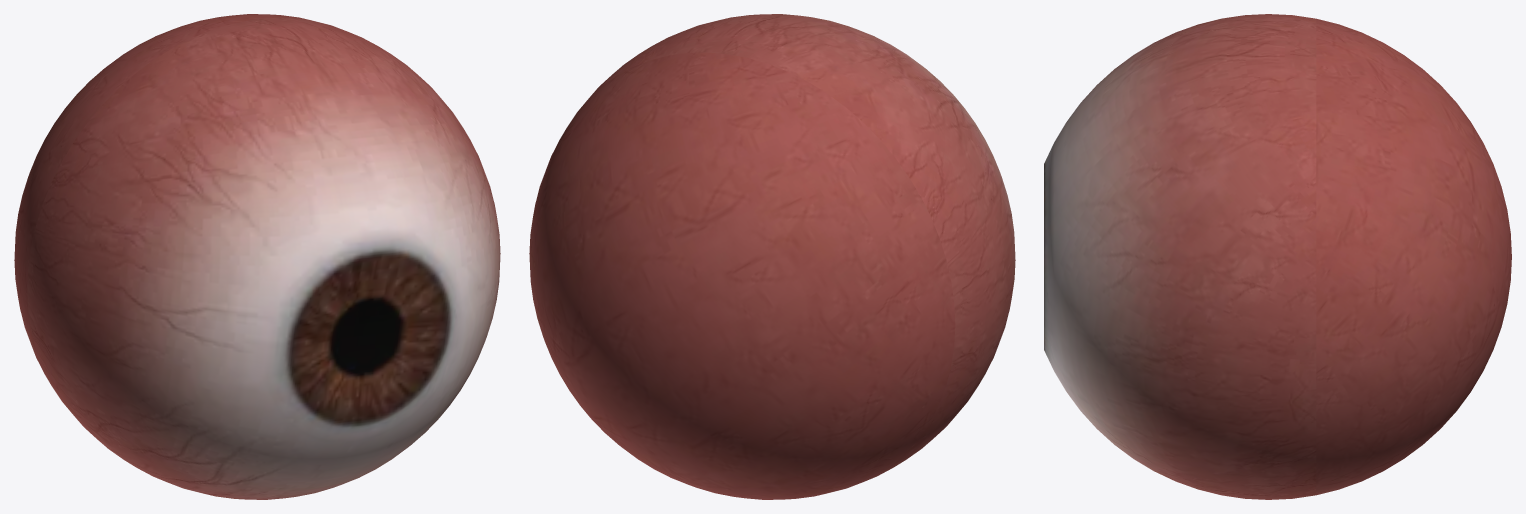
The picture shows the model from 3 angles, left to right: view 1: azimuth 30°, elevation 25°; view 2: azimuth 150°, elevation 25°; view 3: azimuth 270°, elevation 25°; orthographic projection.
Parts seen in each view (by area): view 1: Object_4; view 2: Object_4; view 3: Object_4.
Boxes of the visible parts, <box> form: Object_4: <box>14,14,500,499</box>; Object_4: <box>529,14,1015,499</box>; Object_4: <box>1044,14,1511,499</box>.
Size of what is drawn, in the model's own units: 2 by 2 by 1.92.
Materials: 1 (1 with a texture image).
